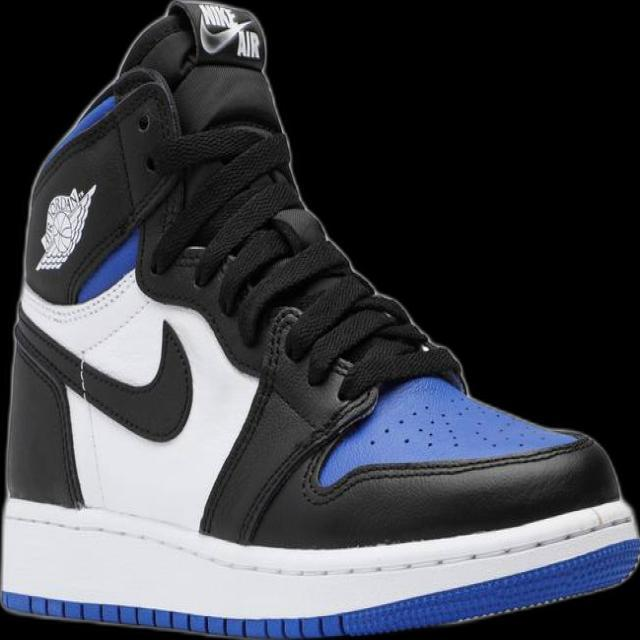J1_InsoleChar: (0, 0, 639, 639)
J1_ShoeLogo: (33, 182, 97, 272), (195, 1, 265, 63)
J1_StitchPattern: (141, 117, 467, 395), (187, 146, 372, 347), (152, 122, 300, 279), (236, 384, 379, 543), (300, 433, 591, 504), (1, 591, 342, 638), (231, 234, 352, 328), (196, 176, 303, 281)
